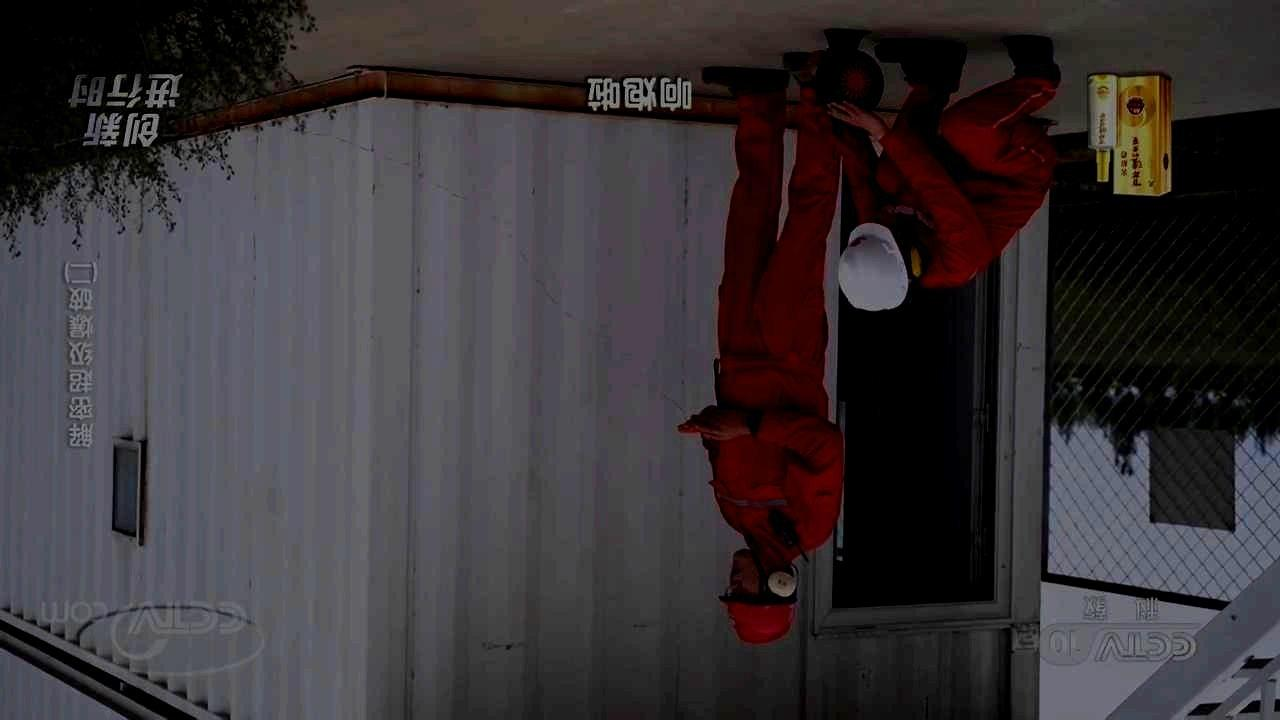helmet: (718, 549, 799, 645), (837, 222, 923, 312)
